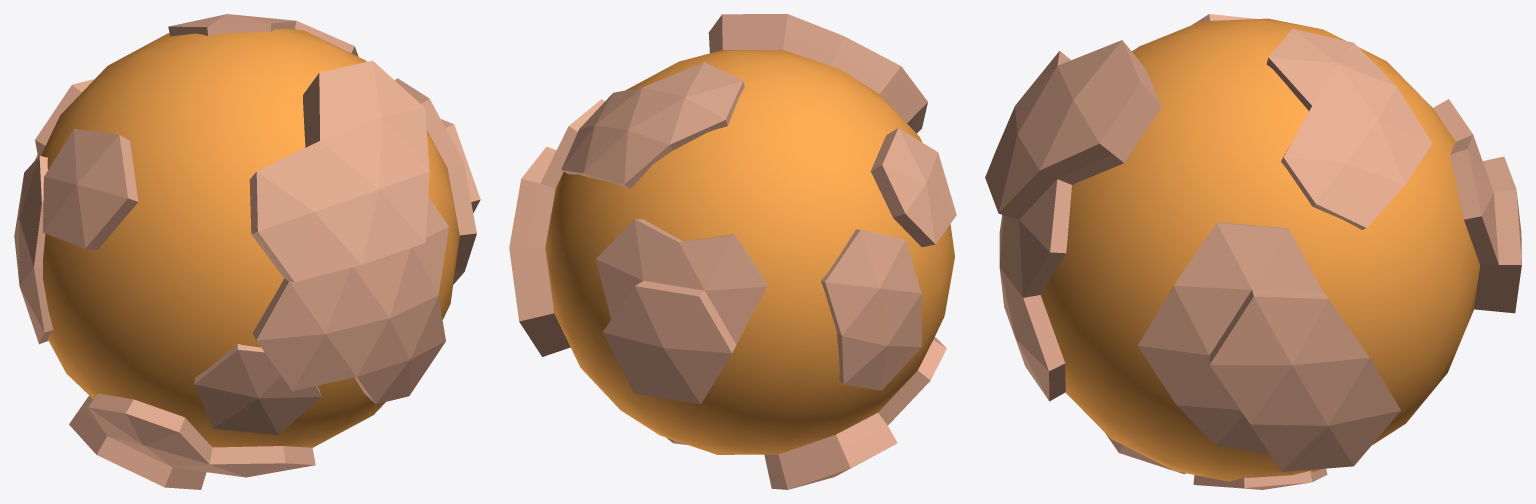
File: hanh tinh.fbx
3 renders of one model, left to right at view 1: azimuth 30°, elevation 25°; view 2: azimuth 150°, elevation 25°; view 3: azimuth 270°, elevation 25°, orthographic. The views are drawn at different scales.
Visible parts, largest first — view 1: Icosphere.001, Icosphere, Icosphere.002; view 2: Icosphere.001, Icosphere, Icosphere.002; view 3: Icosphere.001, Icosphere, Icosphere.002.
Part boxes in pixels (<box>): Icosphere.001: <box>41,29,459,447</box>; Icosphere: <box>34,60,480,489</box>; Icosphere.002: <box>14,14,358,435</box>; Icosphere.001: <box>545,49,954,454</box>; Icosphere: <box>509,14,956,489</box>; Icosphere.002: <box>561,62,921,445</box>; Icosphere.001: <box>1040,18,1479,481</box>; Icosphere: <box>985,14,1521,474</box>; Icosphere.002: <box>1193,28,1432,489</box>.
Size of the model in its own units: 235 by 232 by 244.
